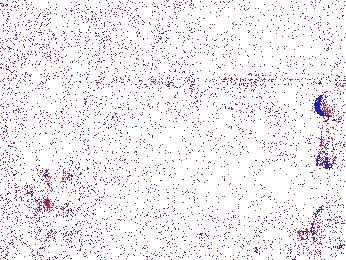flame jellyfish: (314, 84, 346, 169), (60, 166, 103, 222), (298, 204, 346, 248)
